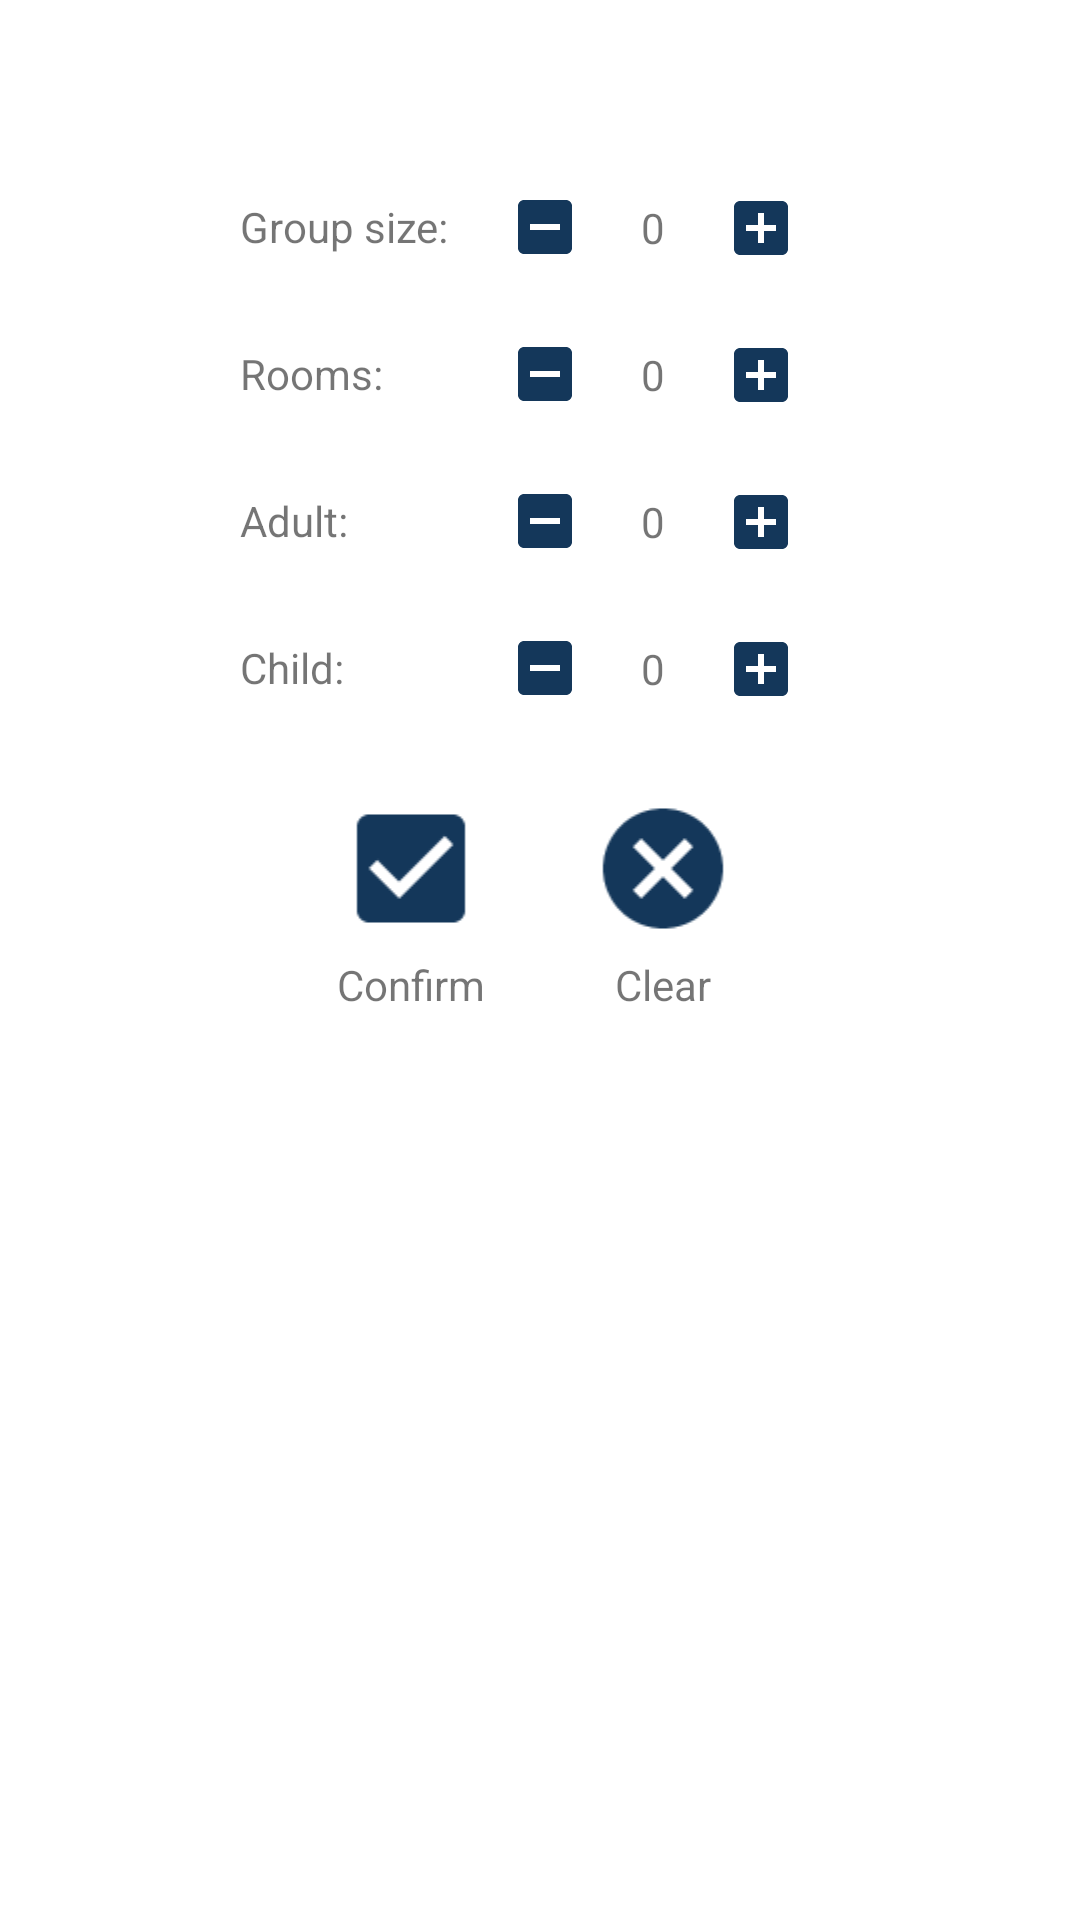

Locate icon controls on the screen. Image size 1080×1920, boxes as region(x1, y1, x2, y2).
add: region(734, 201, 788, 255), region(734, 348, 788, 402), region(734, 495, 788, 549), region(734, 642, 788, 696)
minus: region(518, 200, 572, 254), region(518, 347, 572, 401), region(518, 494, 572, 548), region(518, 641, 572, 695)
